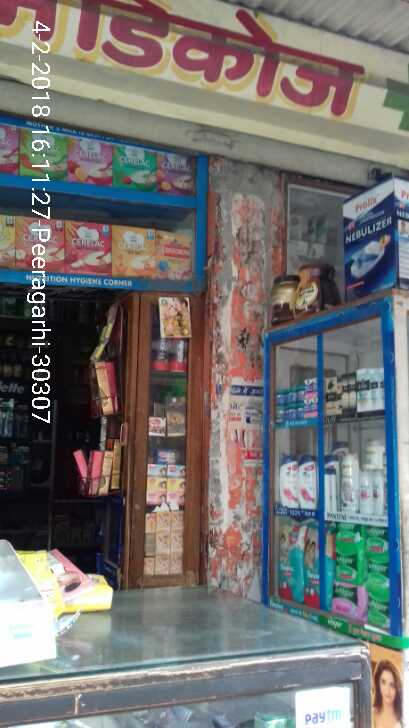vicks: (266, 372, 323, 430)
